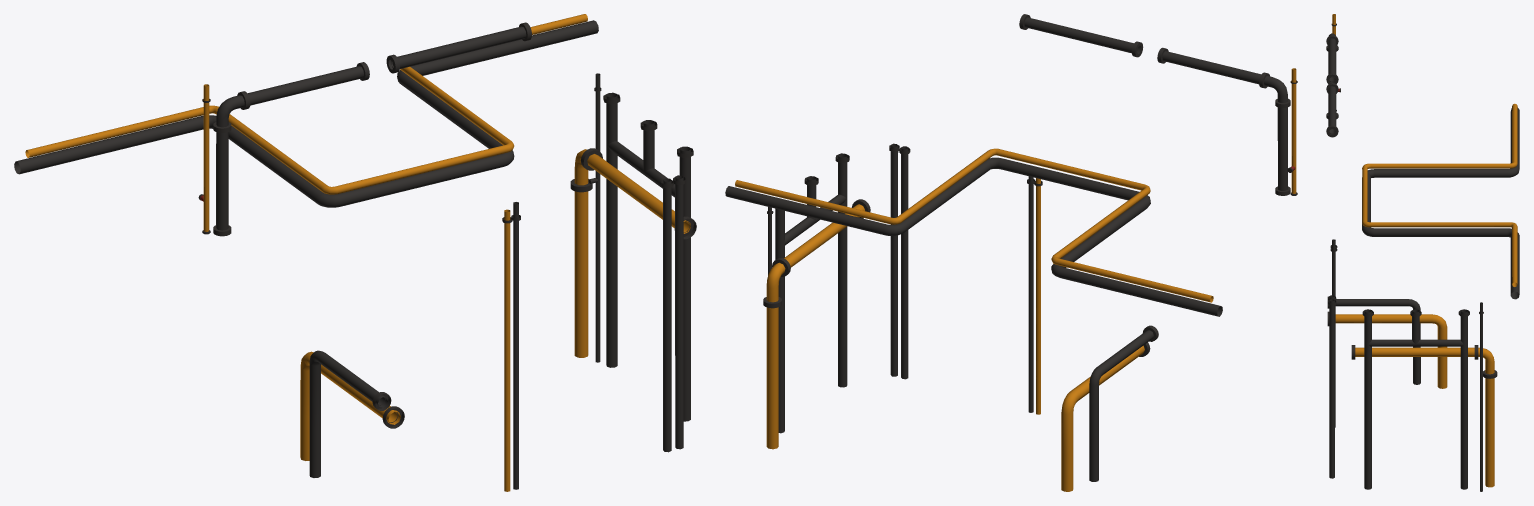
File: SM_H_Building_Tide_WaterControl_02b_ATLAS.fbx
3 views of the same model, side by side, from view 1: azimuth 30°, elevation 25°; view 2: azimuth 150°, elevation 25°; view 3: azimuth 270°, elevation 25° (orthographic). The views are drawn at different scales.
Visible parts, largest first — view 1: SM_H_Building_Tide_WaterControl_02b_ATLAS; view 2: SM_H_Building_Tide_WaterControl_02b_ATLAS; view 3: SM_H_Building_Tide_WaterControl_02b_ATLAS.
Boxes of the visible parts, left/top/right/bottom form: SM_H_Building_Tide_WaterControl_02b_ATLAS: left=14, top=14, right=696, bottom=491; SM_H_Building_Tide_WaterControl_02b_ATLAS: left=725, top=14, right=1297, bottom=491; SM_H_Building_Tide_WaterControl_02b_ATLAS: left=1326, top=14, right=1519, bottom=491.
Size of the model in its own units: 2981 by 1316 by 2372.
